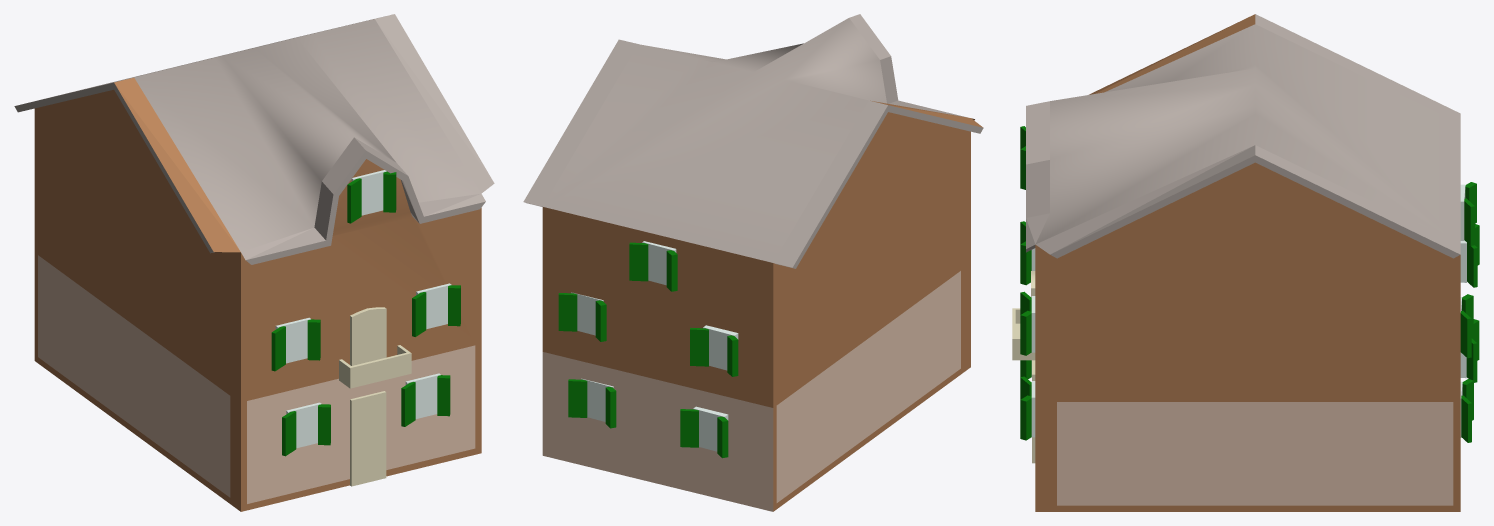
Rendered from ItalyBuilding.FBX.
3 renders of one model, left to right at view 1: azimuth 30°, elevation 25°; view 2: azimuth 150°, elevation 25°; view 3: azimuth 270°, elevation 25°, orthographic. The views are drawn at different scales.
Visible parts, largest first — view 1: Box001, Box002, Box018, Box019, Box006, Box015, Box012, Box003, Box009, Box017, Box014, Box005 (+6 smaller); view 2: Box001, Box026, Box023, Box032, Box022, Box031, Box034, Box020, Box029, Box025, Box028; view 3: Box001, Box019.
Part boxes in pixels (<box>): Box001: <box>14,14,494,511</box>; Box002: <box>350,391,386,486</box>; Box018: <box>350,307,386,365</box>; Box019: <box>339,345,411,388</box>; Box006: <box>405,373,440,418</box>; Box015: <box>351,170,386,215</box>; Box012: <box>275,317,310,363</box>; Box003: <box>286,402,321,448</box>; Box009: <box>416,283,451,329</box>; Box017: <box>347,178,361,223</box>; Box014: <box>271,326,285,371</box>; Box005: <box>282,411,296,456</box>; Box001: <box>523,14,983,511</box>; Box026: <box>703,325,738,370</box>; Box023: <box>693,406,728,451</box>; Box032: <box>642,241,676,285</box>; Box022: <box>568,379,587,417</box>; Box031: <box>558,293,577,331</box>; Box034: <box>629,242,648,281</box>; Box020: <box>581,378,613,421</box>; Box029: <box>571,292,603,335</box>; Box025: <box>680,409,698,447</box>; Box028: <box>690,327,708,366</box>; Box001: <box>1026,14,1460,511</box>; Box019: <box>1012,308,1035,360</box>.
Size of the model in its own units: 46.68 by 56.57 by 65.34.
Materials: 4 (4 with a texture image).
